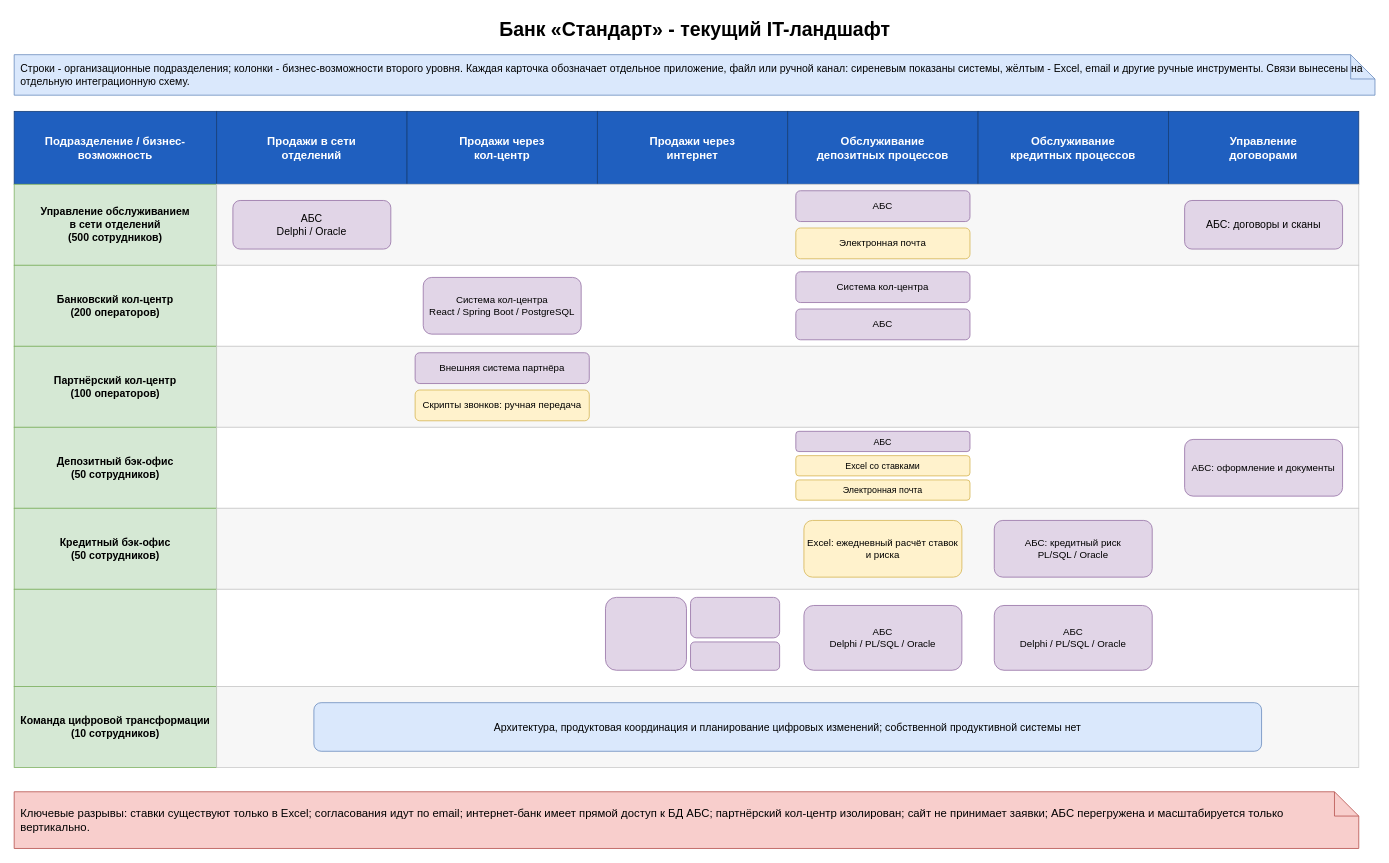
Some shapes in this 1389 by 863 pixel diagram are drawn without their labels. The shapes that lost their labels are listed below. From the top down, each one's box as (x1, y1, x2, y2) in pixels, then its label:
(13, 588, 217, 686): Управление IT (команды банка и подрядчиков)
(605, 597, 686, 670): Сайт PHP / React
(690, 597, 780, 638): Интернет-банк .NET Framework / MS SQL
(690, 641, 780, 670): СМС-шлюз
